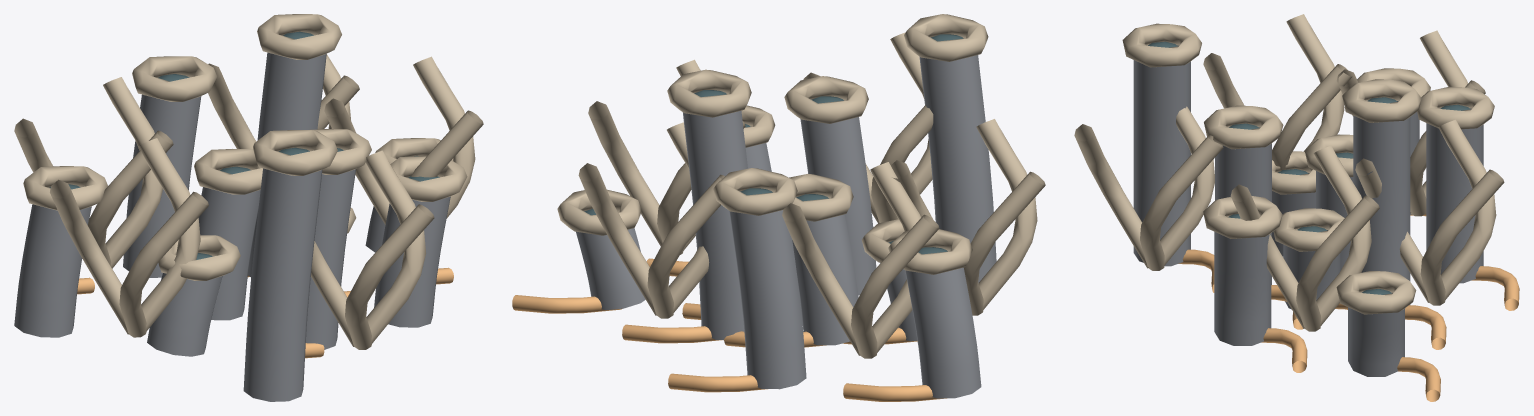
File: bio_thermal_colony_04_far.glb
The picture shows the model from 3 angles, left to right: view 1: azimuth 30°, elevation 25°; view 2: azimuth 150°, elevation 25°; view 3: azimuth 270°, elevation 25°; orthographic projection. The views are drawn at different scales.
Visible parts, largest first — view 1: Chimney biofilm.007, Spiral filament.012, Spiral filament.006, Spiral filament.003, Chimney biofilm.009, Spiral filament, Chimney biofilm.003, Chimney biofilm.002, Chimney biofilm.001, Chimney biofilm.006, Chimney biofilm.005, Chimney biofilm.004 (+11 smaller); view 2: Chimney biofilm.007, Chimney biofilm.006, Spiral filament.003, Chimney biofilm.003, Spiral filament.009, Spiral filament.012, Chimney biofilm.009, Chimney biofilm.002, Chimney biofilm.001, Spiral filament, Spiral filament.006, Chimney biofilm.008 (+15 smaller); view 3: Spiral filament.006, Spiral filament, Spiral filament.009, Chimney biofilm.007, Chimney biofilm.003, Chimney biofilm.005, Spiral filament.012, Chimney biofilm.006, Chimney biofilm.008, Spiral filament.003, Open vent rim.003, Open vent rim.008 (+17 smaller).
Part boxes in pixels (x1,y1,x2,y2): Chimney biofilm.007: (243,168,322,401); Spiral filament.012: (50,138,208,337); Spiral filament.006: (311,150,434,349); Spiral filament.003: (14,77,173,268); Chimney biofilm.009: (14,204,91,337); Spiral filament: (324,56,483,224); Chimney biofilm.003: (248,52,326,277); Chimney biofilm.002: (306,169,355,349); Chimney biofilm.001: (198,187,260,320); Chimney biofilm.006: (123,94,201,277); Chimney biofilm.005: (374,196,450,327); Chimney biofilm.004: (147,273,222,356); Chimney biofilm.007: (919,37,996,282); Chimney biofilm.006: (729,191,806,389); Spiral filament.003: (782,162,939,358); Chimney biofilm.003: (683,93,747,340); Spiral filament.009: (578,122,724,318); Spiral filament.012: (891,119,1045,315); Chimney biofilm.009: (905,267,981,398); Chimney biofilm.002: (800,99,876,295); Chimney biofilm.001: (792,197,858,345); Spiral filament: (588,59,745,254); Spiral filament.006: (803,32,933,223); Chimney biofilm.008: (576,228,645,310); Spiral filament.006: (1074,106,1223,270); Spiral filament: (1230,146,1379,331); Spiral filament.009: (1355,119,1504,305); Chimney biofilm.007: (1133,45,1190,266); Chimney biofilm.003: (1353,101,1410,308); Chimney biofilm.005: (1214,232,1271,345); Spiral filament.012: (1203,14,1352,172); Chimney biofilm.006: (1426,108,1483,283); Chimney biofilm.008: (1348,292,1404,376); Spiral filament.003: (1336,30,1485,216); Open vent rim.003: (1342,79,1421,122); Open vent rim.008: (1336,271,1416,314).
Size of the model in its own units: 1.75 by 0.9103 by 1.56.
